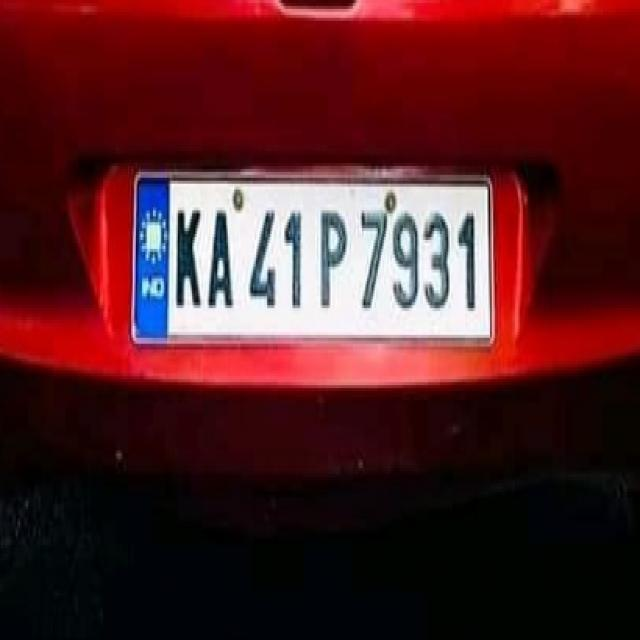1: (452, 212, 481, 325), (281, 202, 307, 321)
3: (424, 202, 452, 314)
4: (242, 198, 281, 317)
7: (359, 196, 389, 317)
9: (387, 195, 422, 316)
A: (203, 198, 238, 318)
K: (172, 199, 203, 314)
P: (313, 200, 353, 322)
